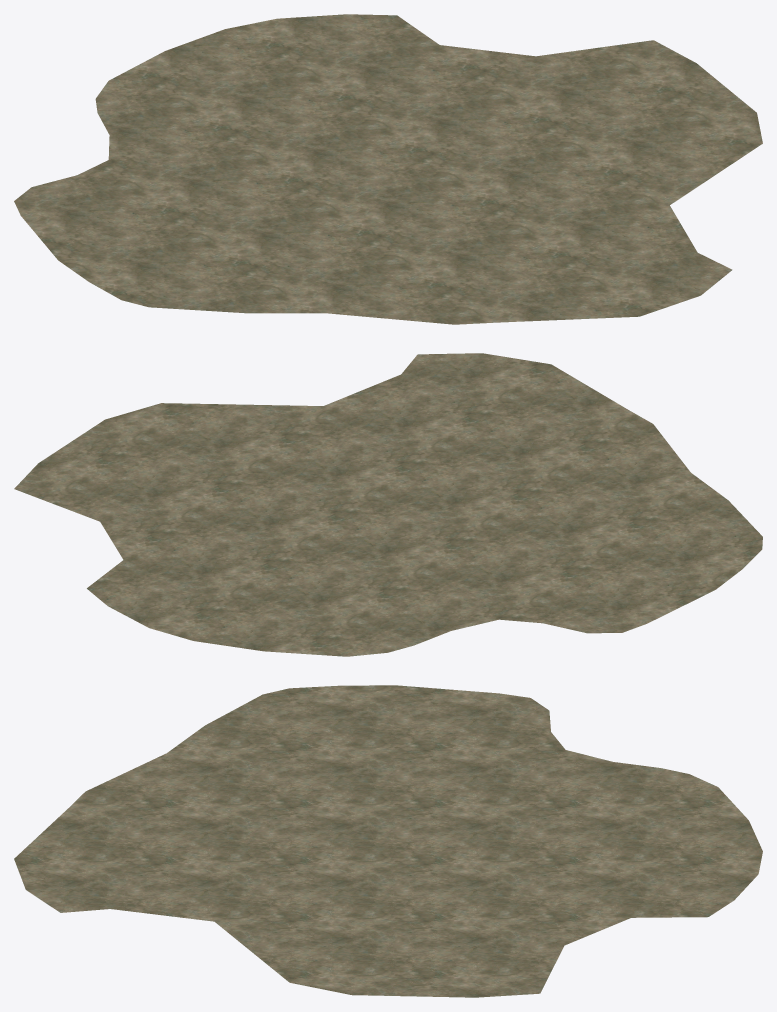
The model's file is EKH_JAIL_PS_JA_CAVE_FLOOR84746.fbx.
The picture shows the model from 3 angles, top to bottom: view 1: azimuth 30°, elevation 25°; view 2: azimuth 150°, elevation 25°; view 3: azimuth 270°, elevation 25°; orthographic projection. The views are drawn at different scales.
Visible parts, largest first — view 1: EKH_JAIL_PS_JA_CAVE_FLOOR84746; view 2: EKH_JAIL_PS_JA_CAVE_FLOOR84746; view 3: EKH_JAIL_PS_JA_CAVE_FLOOR84746.
Boxes of the visible parts, box(x1,y1,x2,y2) form: EKH_JAIL_PS_JA_CAVE_FLOOR84746: box(14, 14, 762, 324); EKH_JAIL_PS_JA_CAVE_FLOOR84746: box(14, 353, 762, 656); EKH_JAIL_PS_JA_CAVE_FLOOR84746: box(14, 685, 762, 997).
Size of the model in its own units: 109873 by 0.0242 by 111321.
1 material, 1 textured.
